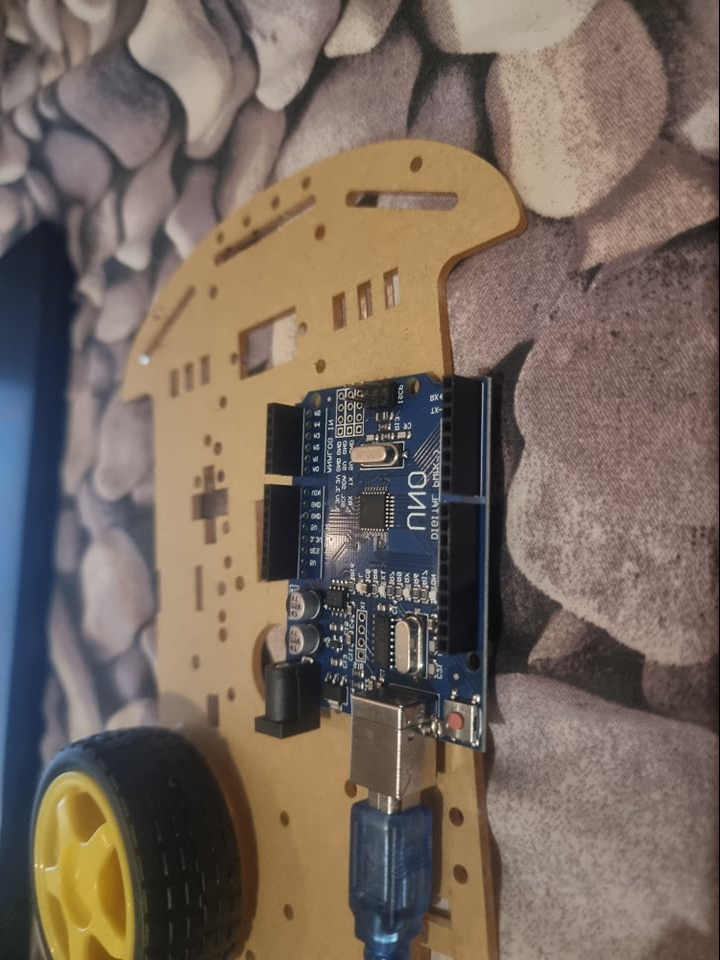UNO R3: (251, 372, 488, 802)
